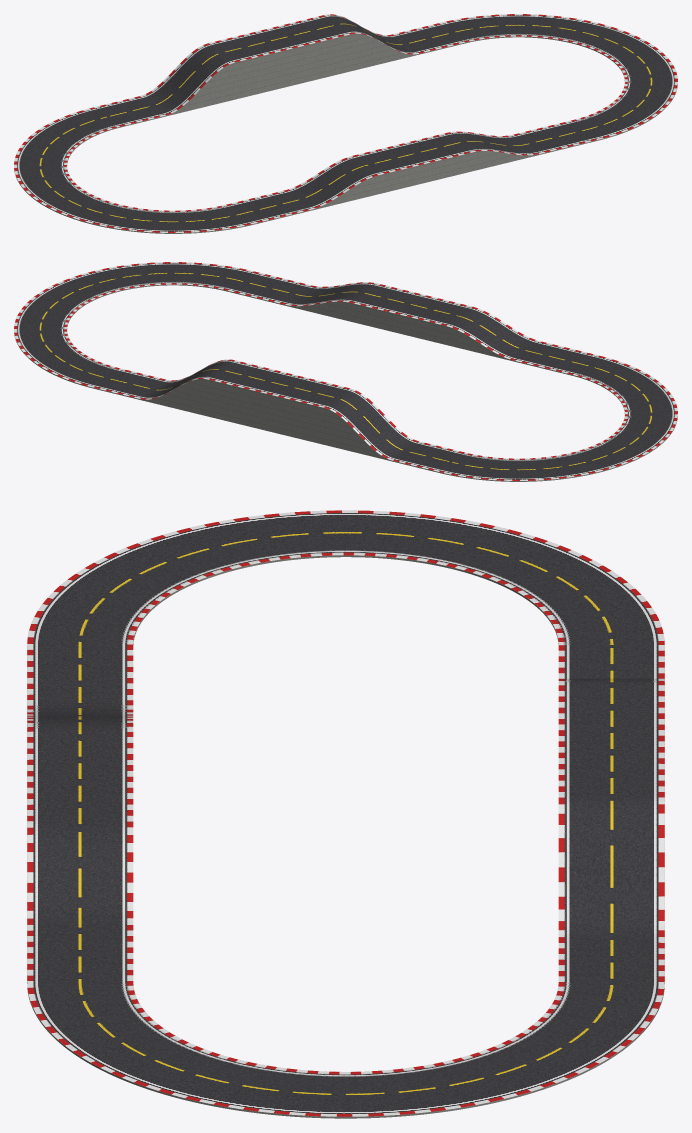
File: pista.obj
The picture shows the model from 3 angles, top to bottom: view 1: azimuth 30°, elevation 25°; view 2: azimuth 150°, elevation 25°; view 3: azimuth 270°, elevation 25°; orthographic projection. The views are drawn at different scales.
Parts seen in each view (by area): view 1: pista; view 2: pista; view 3: pista.
Part boxes in pixels (left/top/right/bottom): pista: left=14, top=14, right=677, bottom=233; pista: left=14, top=262, right=677, bottom=481; pista: left=27, top=510, right=664, bottom=1118.
Size of the model in its own units: 108 by 6.15 by 48.
